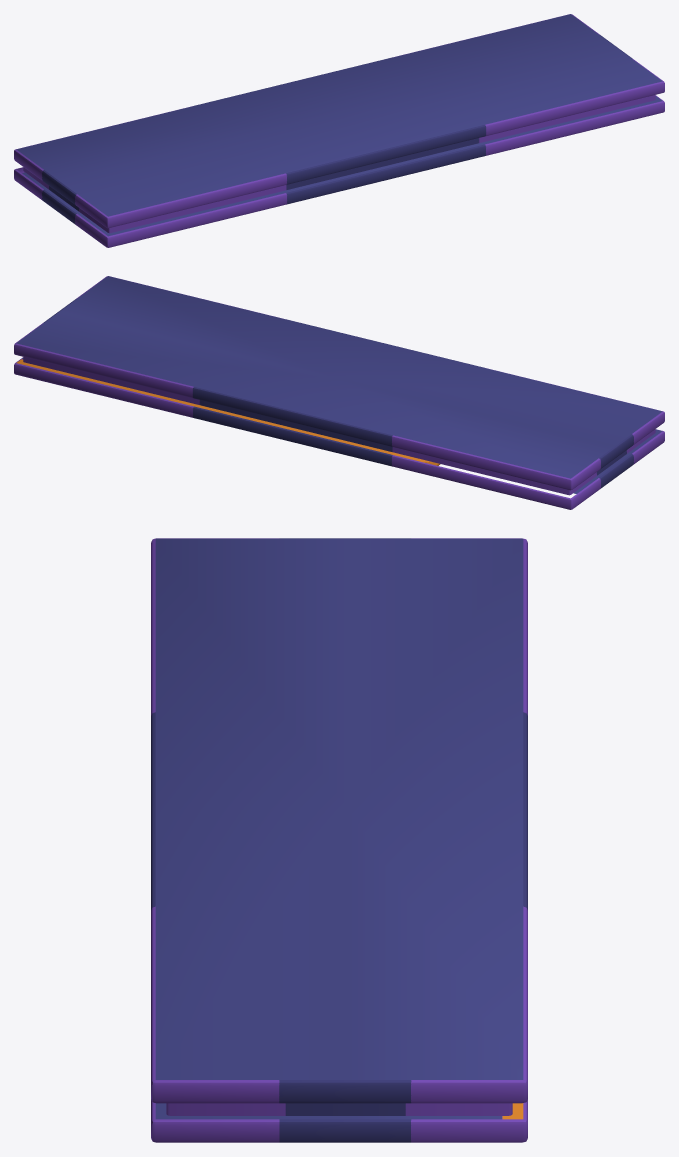
The model's file is Table_Top_long_R2.fbx.
3 renders of one model, top to bottom at view 1: azimuth 30°, elevation 25°; view 2: azimuth 150°, elevation 25°; view 3: azimuth 270°, elevation 25°, orthographic. The views are drawn at different scales.
Parts seen in each view (by area): view 1: mdl_Table_01_5; view 2: mdl_Table_01_5; view 3: mdl_Table_01_5.
Part boxes in pixels (bbox=[...]): mdl_Table_01_5: bbox=[14, 14, 664, 247]; mdl_Table_01_5: bbox=[14, 276, 664, 509]; mdl_Table_01_5: bbox=[151, 538, 527, 1142].
Bounding box in the file's own units: 680 × 36.3 × 199.
1 material, 1 textured.
